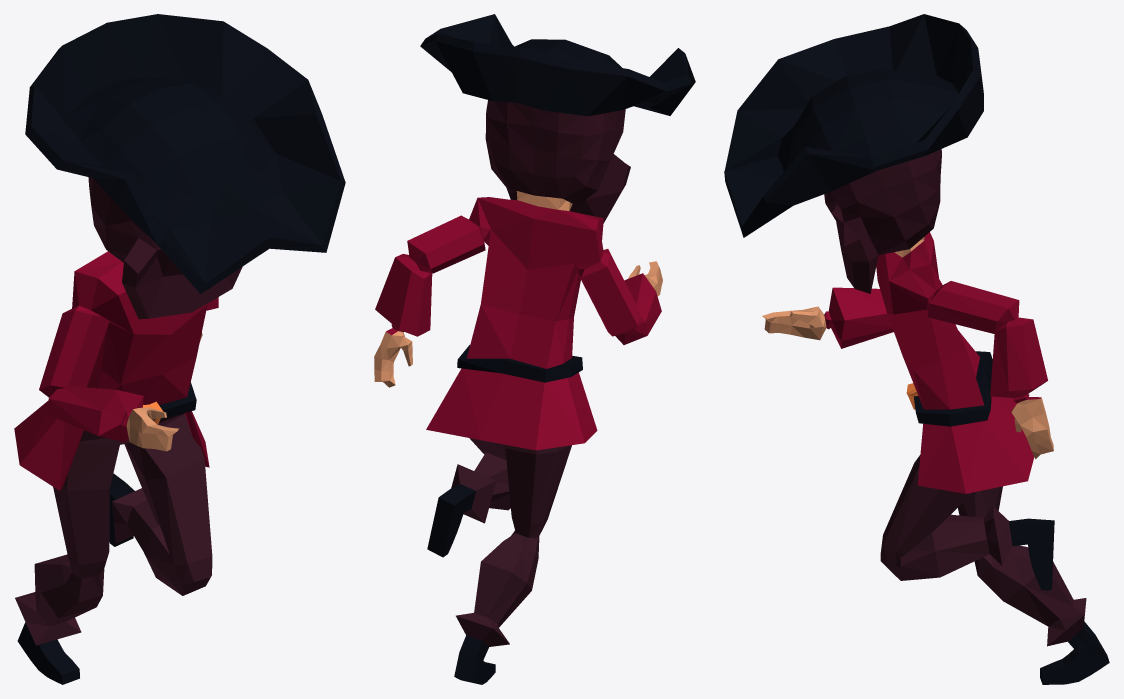
The model's file is pirate.obj.
3 views of the same model, side by side, from view 1: azimuth 30°, elevation 25°; view 2: azimuth 150°, elevation 25°; view 3: azimuth 270°, elevation 25° (orthographic). The views are drawn at different scales.
Visible parts, largest first — view 1: Cube_Cube.002; view 2: Cube_Cube.002; view 3: Cube_Cube.002.
Boxes of the visible parts, box(x1,y1,x2,y2) form: Cube_Cube.002: box(14, 14, 345, 684); Cube_Cube.002: box(374, 14, 695, 684); Cube_Cube.002: box(724, 14, 1109, 684).
Size of the model in its own units: 0.9578 by 2.29 by 1.25.
